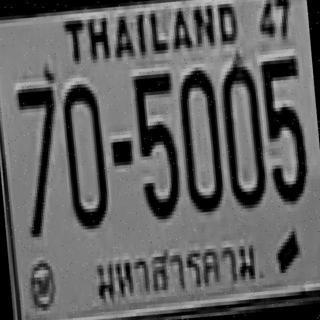N00: (59, 80, 108, 227), (218, 59, 265, 206), (175, 66, 222, 210)
N05: (131, 71, 180, 219), (258, 54, 307, 201)
N07: (13, 83, 65, 234), (14, 83, 61, 190)
P25: (87, 234, 267, 313)
